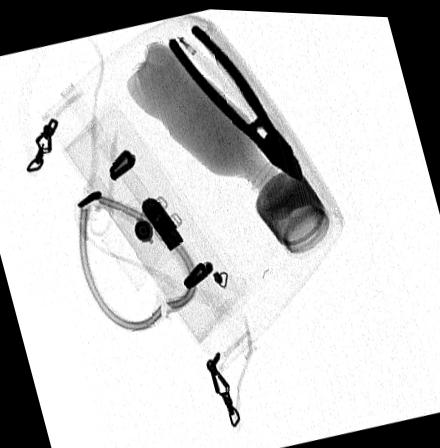Pliers: (165, 20, 306, 178)
